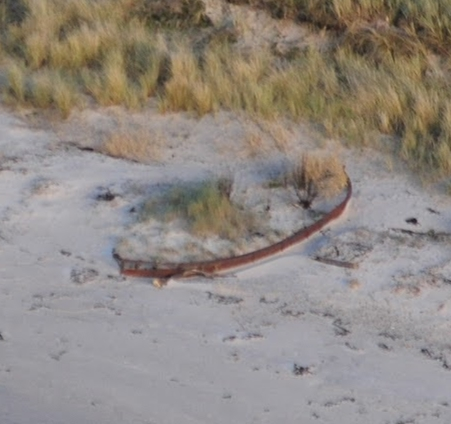tube: (264, 168, 356, 257), (111, 239, 265, 286)
